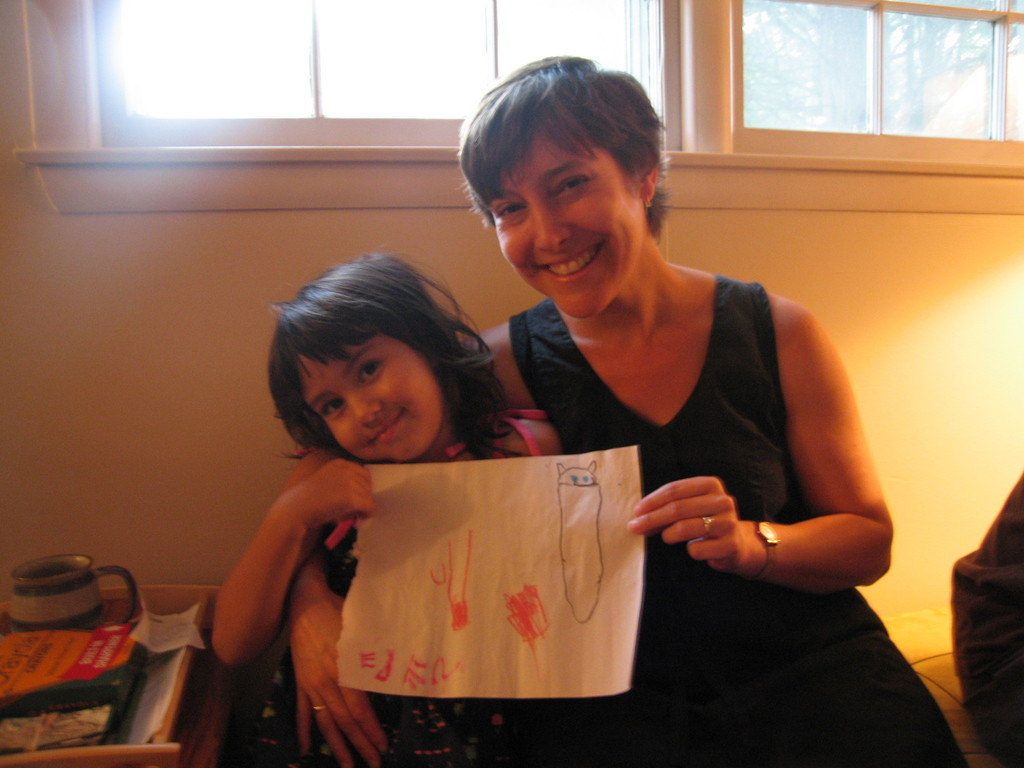Human-face: (497, 143, 644, 319), (303, 330, 444, 462)
